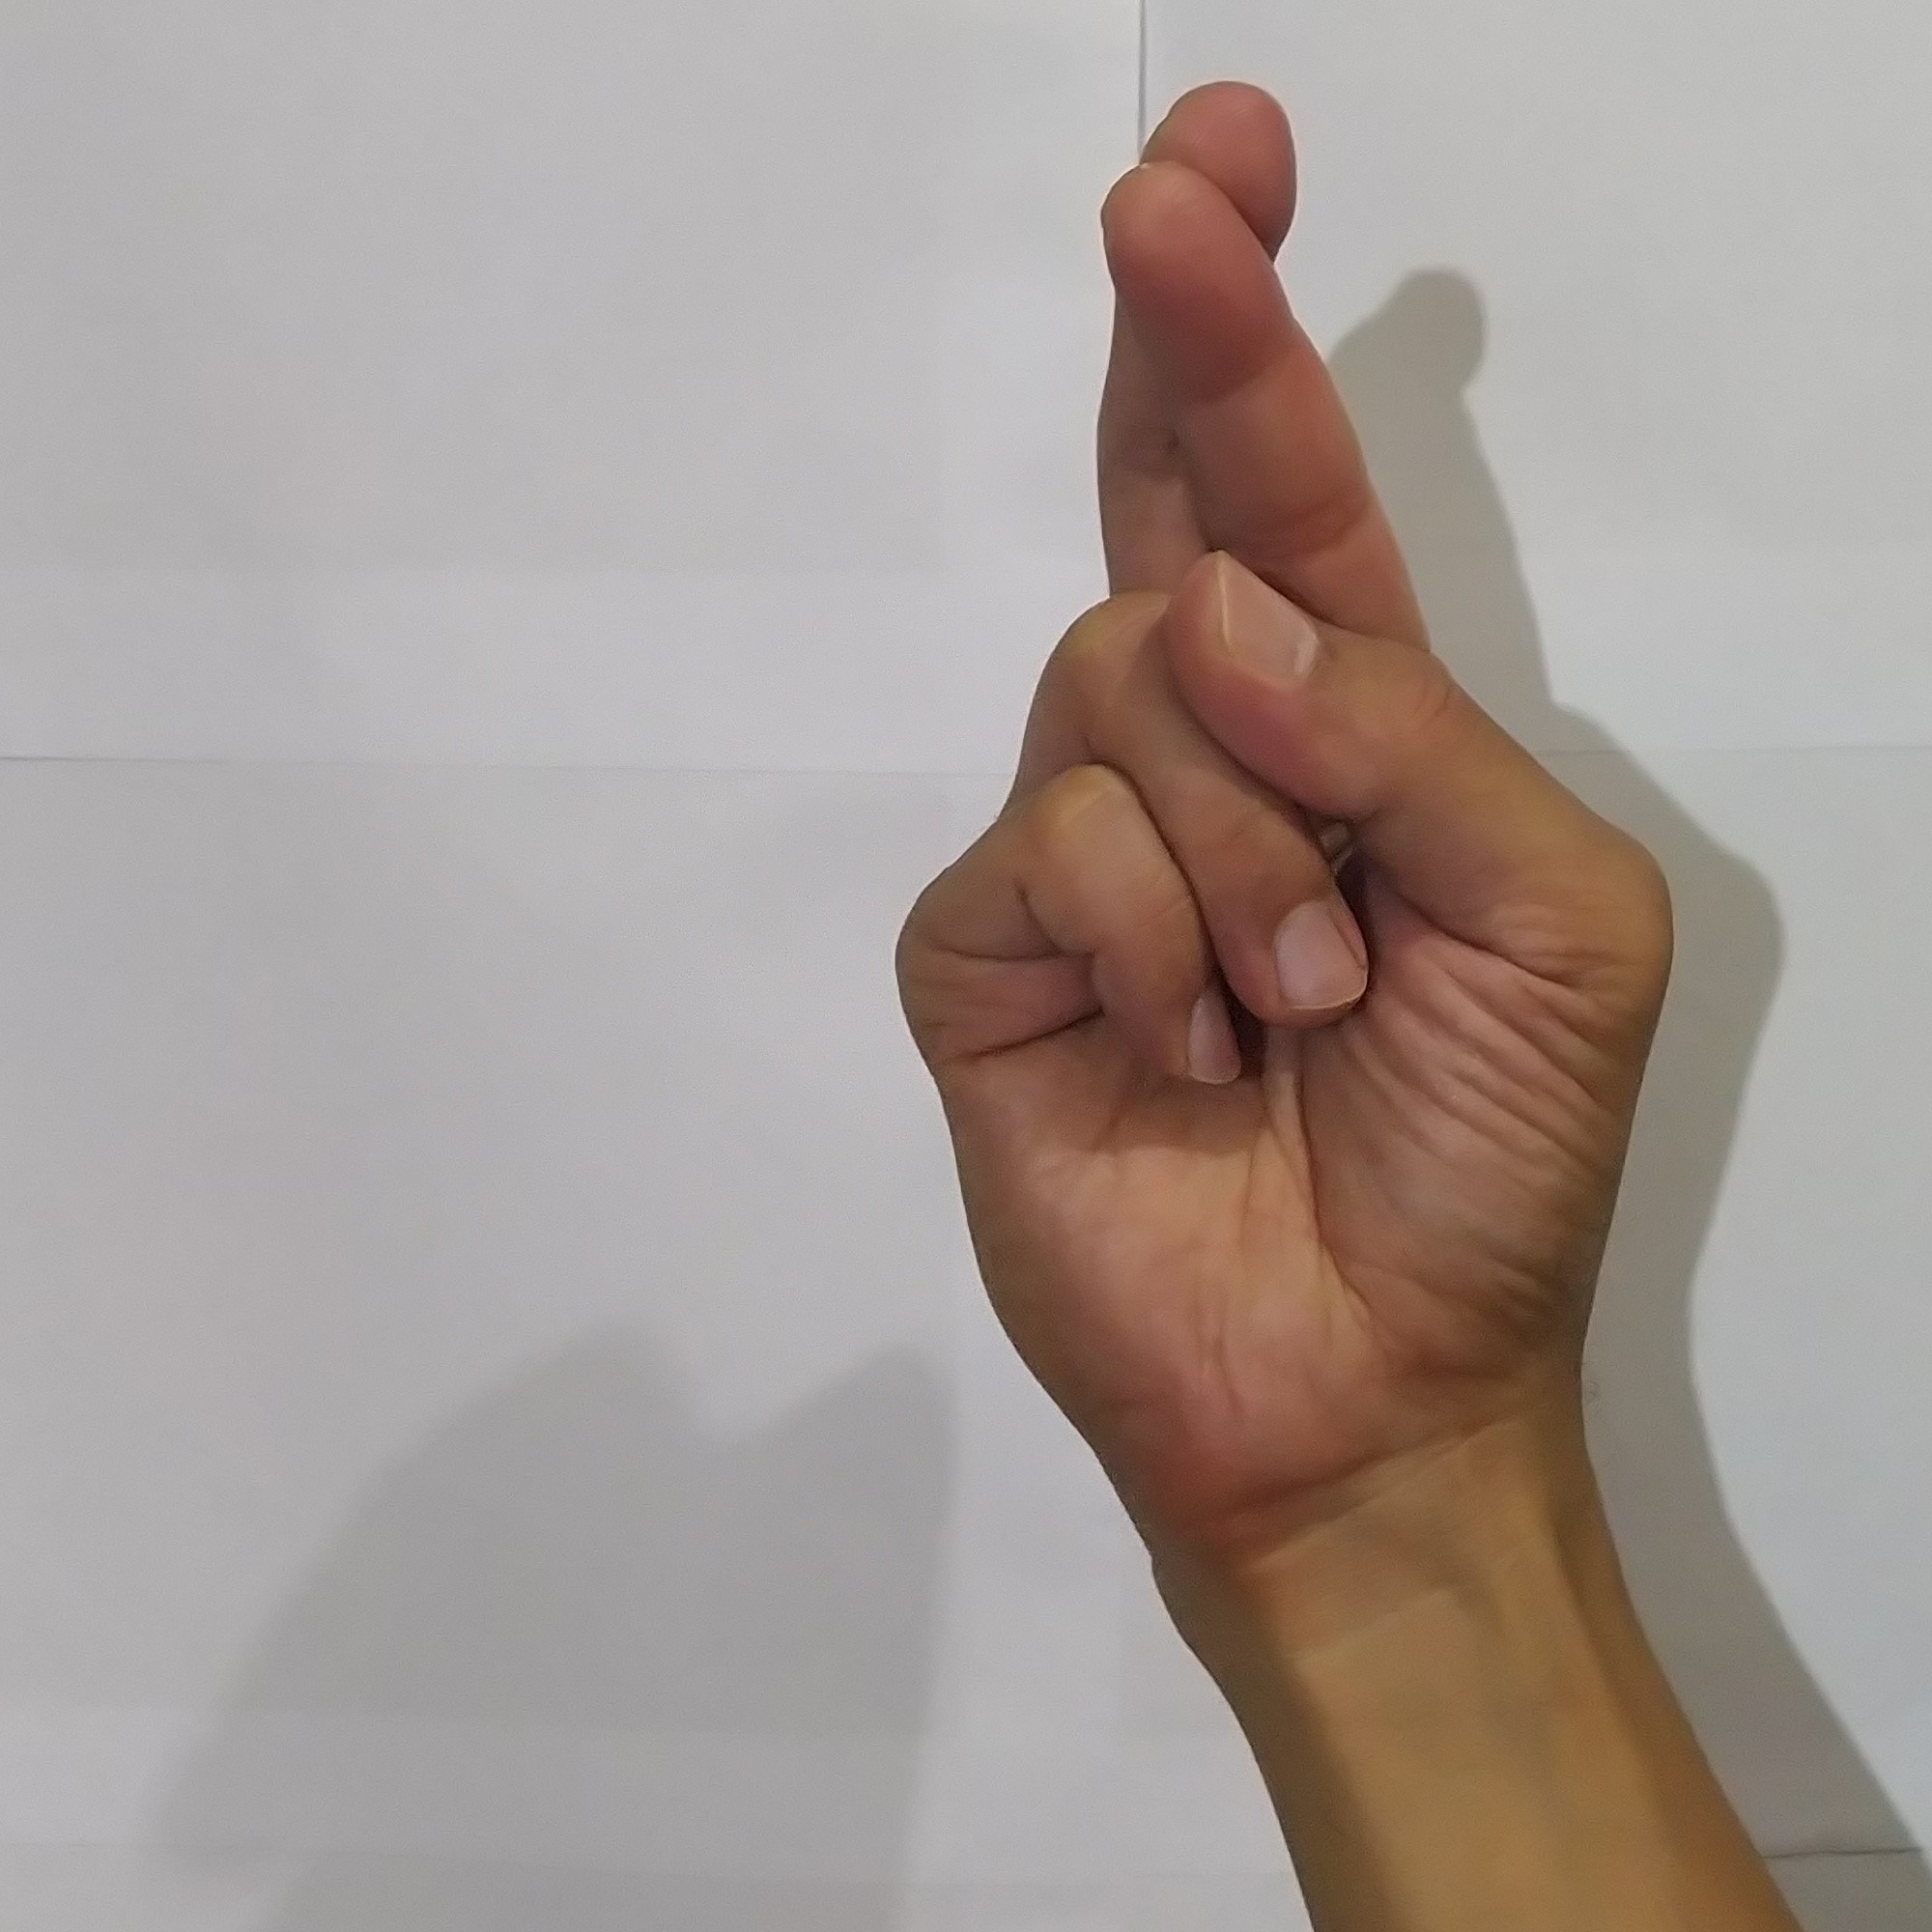R: (867, 62, 1697, 1458)
